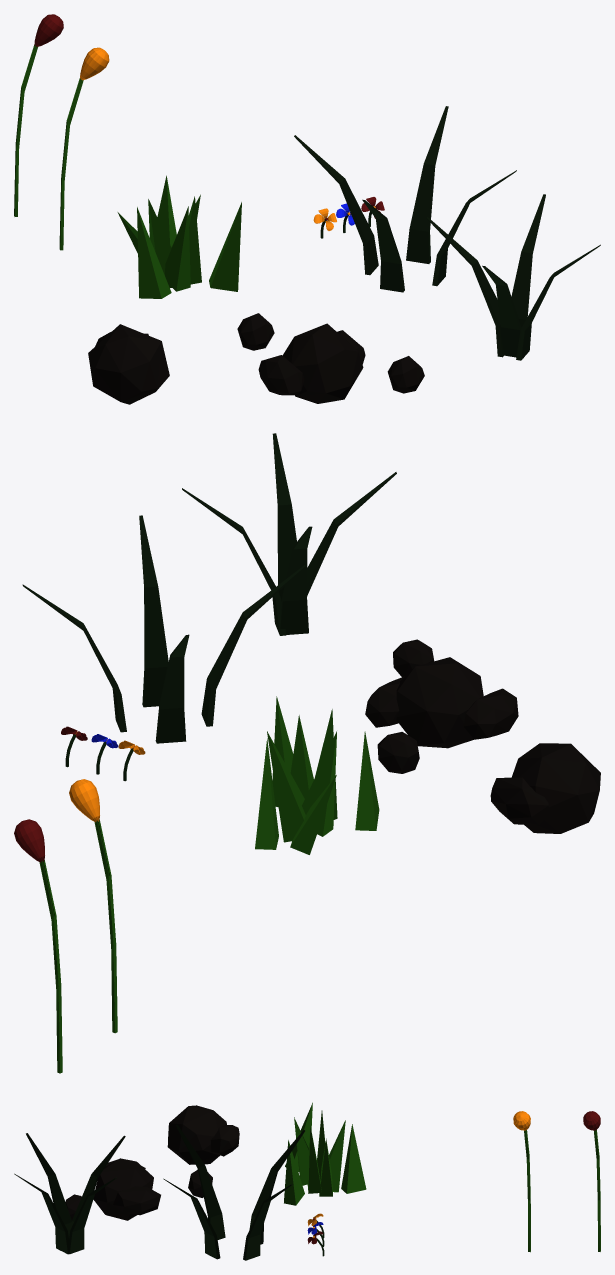
Rendered from Vegetation.FBX.
3 renders of one model, top to bottom at view 1: azimuth 30°, elevation 25°; view 2: azimuth 150°, elevation 25°; view 3: azimuth 270°, elevation 25°, orthographic. The views are drawn at different scales.
Visible parts, largest first — view 1: Rocks, Grass2, Grass1, Grass, Rocks1, Grass3, Grass4; view 2: Rocks, Grass2, Grass1, Rocks1, Grass, Grass4, Grass3; view 3: Grass2, Rocks, Grass1, Rocks1, Grass, Grass3, Grass4.
Part boxes in pixels (box(x1,y1,x2,y2)): Rocks: box(237, 313, 424, 403); Grass2: box(117, 175, 241, 298); Grass1: box(294, 106, 516, 292); Grass: box(426, 194, 600, 360); Rocks1: box(88, 324, 169, 404); Grass3: box(14, 14, 63, 216); Grass4: box(59, 47, 109, 250); Rocks: box(365, 639, 518, 773); Grass2: box(255, 696, 379, 854); Grass1: box(22, 515, 305, 743); Rocks1: box(490, 743, 600, 833); Grass: box(182, 433, 396, 635); Grass4: box(69, 779, 117, 1033); Grass3: box(14, 819, 62, 1073); Grass2: box(284, 1102, 366, 1205); Rocks: box(65, 1158, 212, 1220); Grass1: box(163, 1124, 304, 1260); Rocks1: box(167, 1105, 239, 1164); Grass: box(14, 1133, 125, 1254); Grass3: box(583, 1111, 600, 1251); Grass4: box(513, 1111, 530, 1252).
Size of the model in its own units: 7533 by 3471 by 12007.
